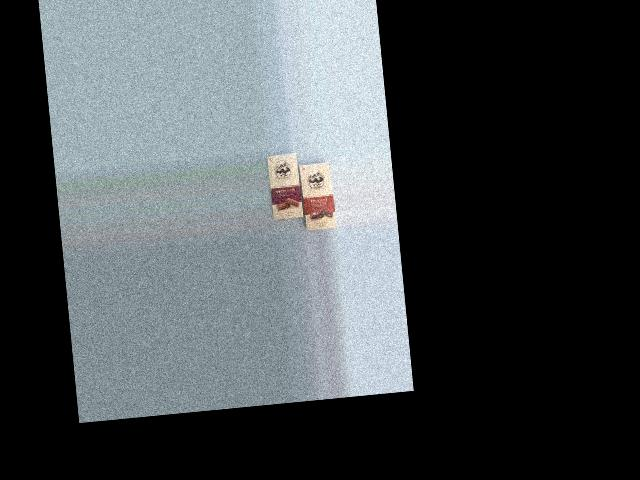chocolate: (292, 158, 338, 232)
